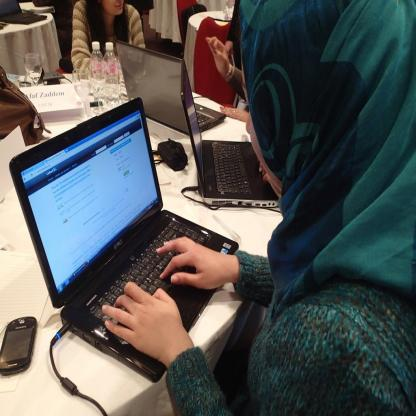board: (9, 95, 240, 382), (178, 59, 280, 210), (115, 39, 226, 136), (0, 0, 47, 25), (103, 42, 120, 102), (89, 41, 103, 102)
